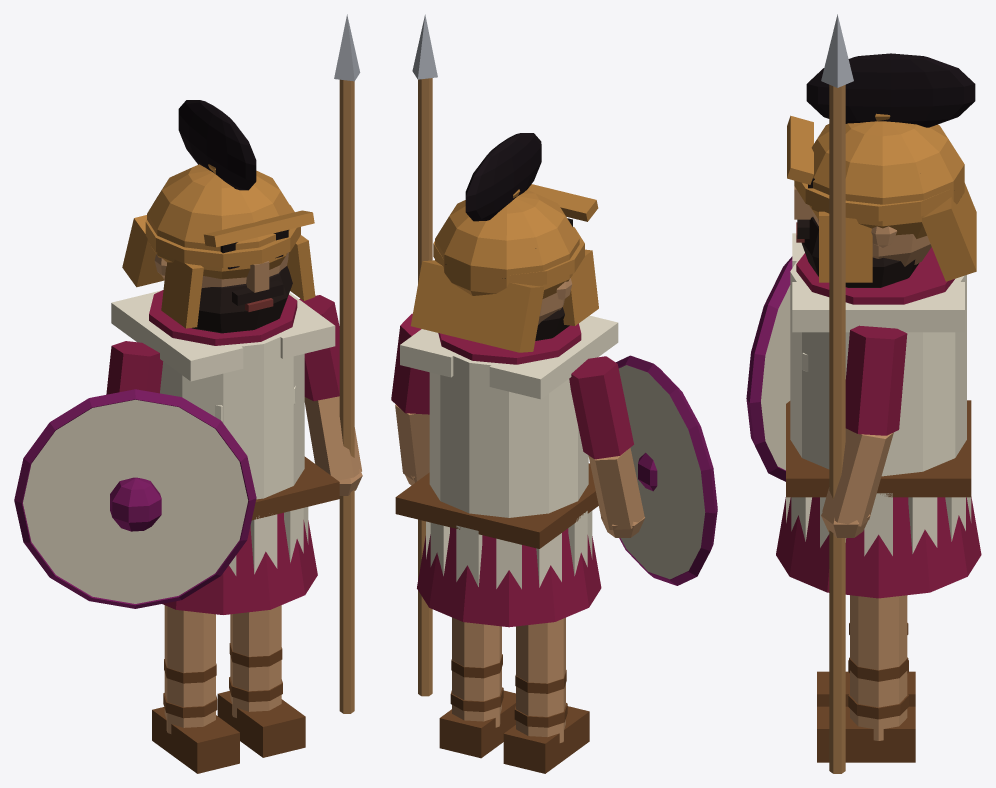
The model's file is kartaginczyk.glb.
3 views of the same model, side by side, from view 1: azimuth 30°, elevation 25°; view 2: azimuth 150°, elevation 25°; view 3: azimuth 270°, elevation 25° (orthographic). The views are drawn at different scales.
Visible parts, largest first — view 1: reka_l, cialo, glowa, reka_p, noga_l, noga_p; view 2: cialo, glowa, reka_l, reka_p, noga_l, noga_p; view 3: cialo, glowa, reka_p, noga_p, reka_l, noga_l.
Part boxes in pixels (<box>): reka_l: <box>14,341,256,608</box>; cialo: <box>111,290,339,614</box>; glowa: <box>122,100,315,333</box>; reka_p: <box>299,14,362,713</box>; noga_l: <box>152,605,239,773</box>; noga_p: <box>217,605,305,757</box>; cialo: <box>395,315,618,627</box>; glowa: <box>410,133,598,352</box>; reka_l: <box>569,355,717,585</box>; reka_p: <box>391,14,437,696</box>; noga_l: <box>503,617,589,773</box>; noga_p: <box>439,617,515,758</box>; cialo: <box>776,233,981,598</box>; glowa: <box>787,53,976,287</box>; reka_p: <box>821,14,907,773</box>; noga_p: <box>817,595,915,762</box>; reka_l: <box>746,256,792,481</box>; noga_l: <box>817,623,915,706</box>.
Bounding box in the file's own units: 1.01 × 2.08 × 0.5714.
